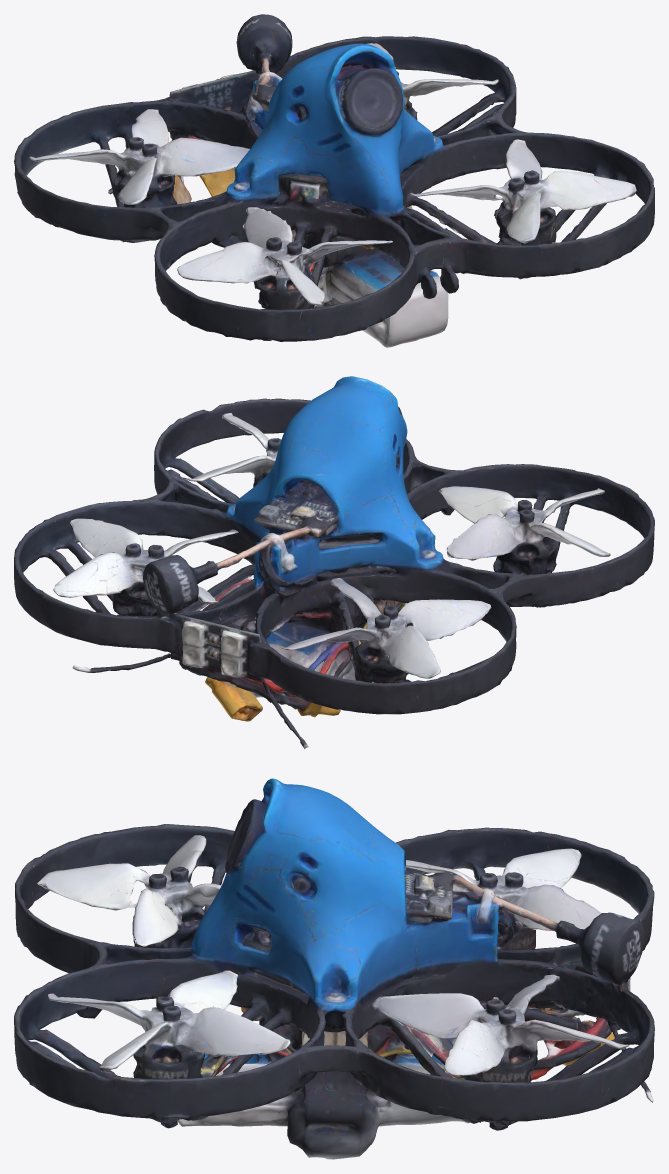
Rendered from beta85x-scan.glb.
3 views of the same model, one above another, from view 1: azimuth 30°, elevation 25°; view 2: azimuth 150°, elevation 25°; view 3: azimuth 270°, elevation 25° (orthographic). The views are drawn at different scales.
Visible parts, largest first — view 1: Object_2; view 2: Object_2; view 3: Object_2.
Boxes of the visible parts, x1,y1,x2,y2 form: Object_2: (14, 14, 654, 347); Object_2: (14, 376, 654, 749); Object_2: (14, 778, 654, 1159).
Size of the model in its own units: 2.3 by 1.37 by 2.3.
1 material, 1 textured.
